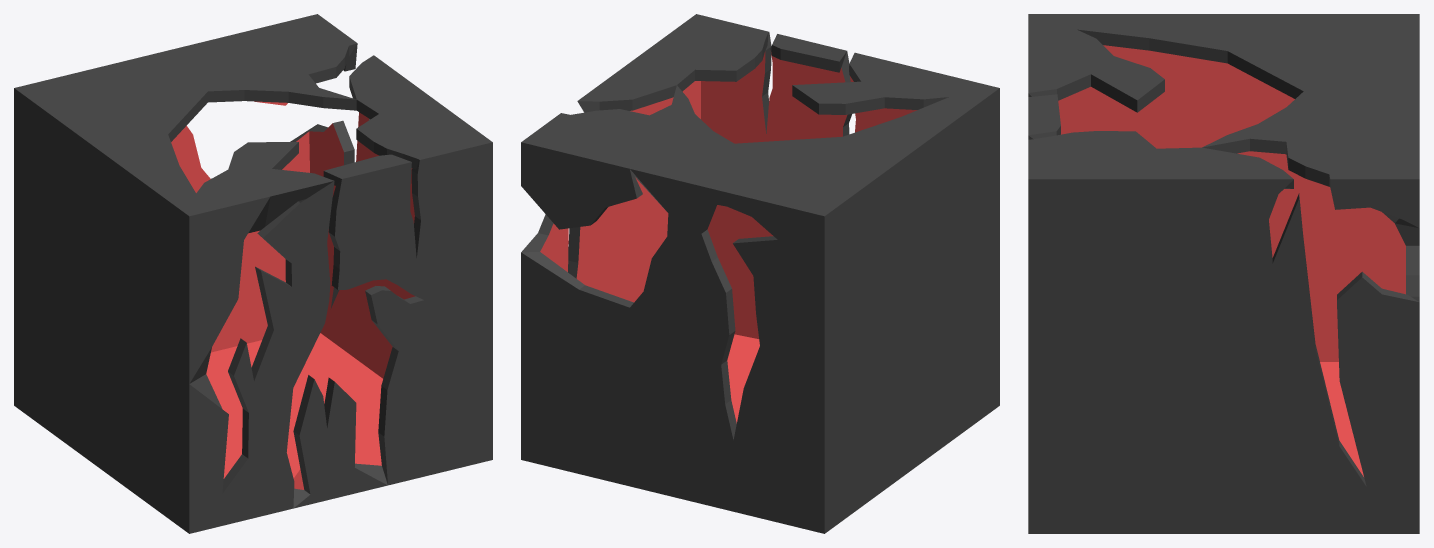
The model's file is RedCrack1.fbx.
The picture shows the model from 3 angles, left to right: view 1: azimuth 30°, elevation 25°; view 2: azimuth 150°, elevation 25°; view 3: azimuth 270°, elevation 25°; orthographic projection. The views are drawn at different scales.
Parts seen in each view (by area): view 1: Red_Crack1; view 2: Red_Crack1; view 3: Red_Crack1.
Part boxes in pixels (x1=…): Red_Crack1: x1=14, y1=14, x2=492, y2=533; Red_Crack1: x1=521, y1=14, x2=999, y2=533; Red_Crack1: x1=1028, y1=14, x2=1419, y2=533.
Bounding box in the file's own units: 200 × 200 × 200.
